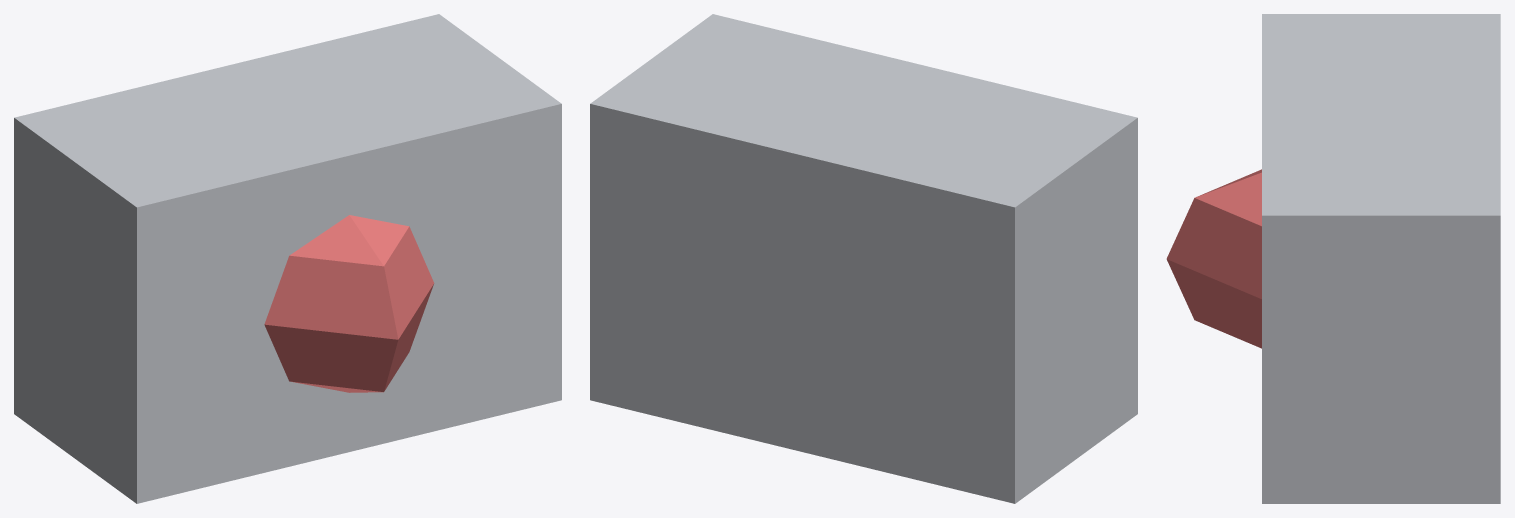
File: cybernetic.glb
3 views of the same model, side by side, from view 1: azimuth 30°, elevation 25°; view 2: azimuth 150°, elevation 25°; view 3: azimuth 270°, elevation 25° (orthographic). The views are drawn at different scales.
Visible parts, largest first — view 1: cyber, sphere; view 2: cyber; view 3: cyber, sphere.
Part boxes in pixels (x1,y1,x2,y2): cyber: (14,14,561,503); sphere: (264,215,434,392); cyber: (590,14,1137,503); cyber: (1262,14,1500,503); sphere: (1166,169,1261,348).
Bounding box in the file's own units: 0.06 × 0.04 × 0.042.
